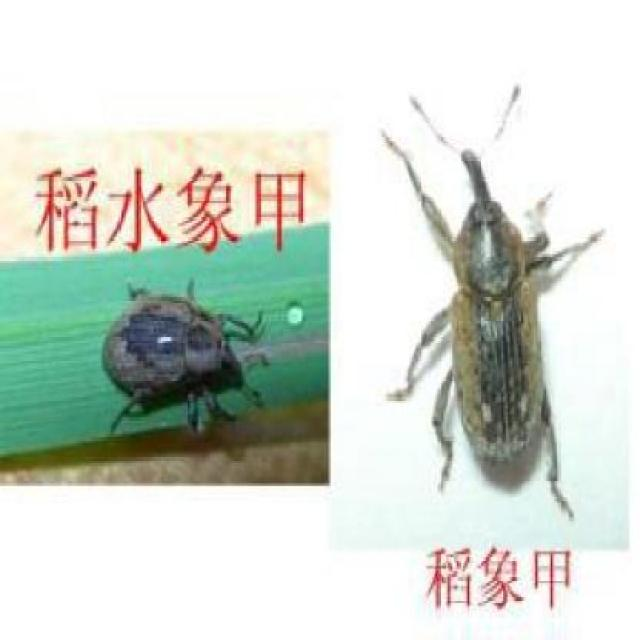rice-bug: (412, 126, 572, 492), (100, 274, 262, 432)
